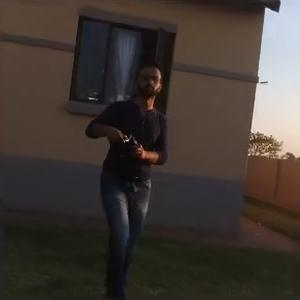follow: (76, 49, 179, 298)
